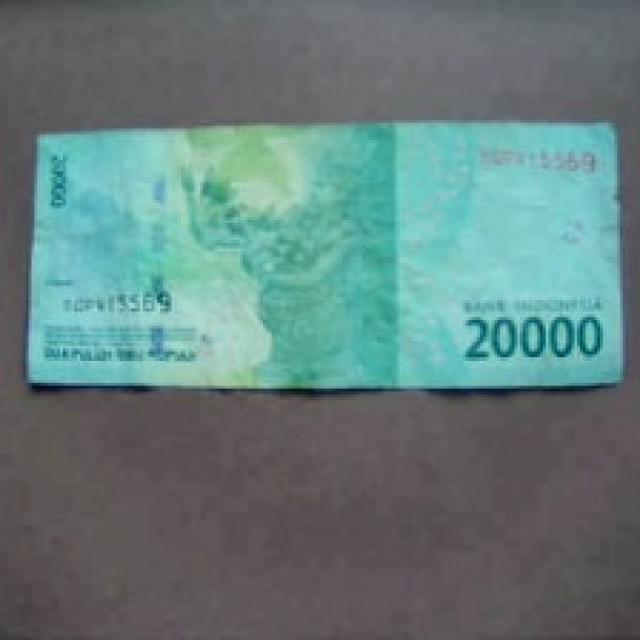dua puluh ribu rupiah: (0, 94, 640, 448)
